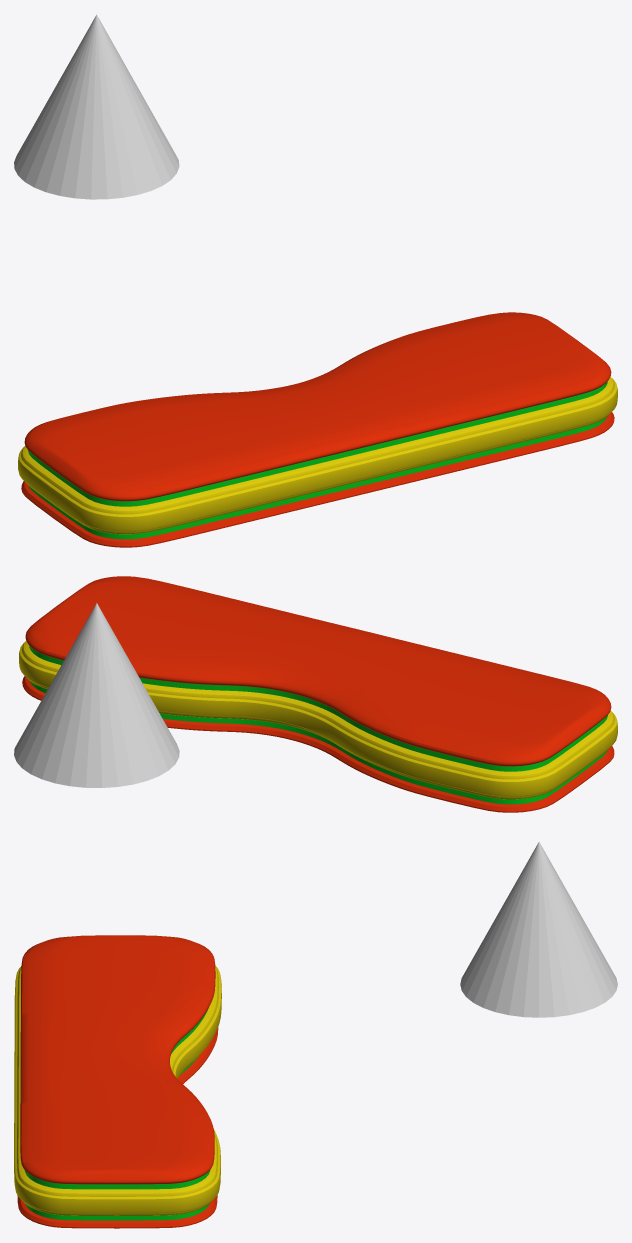
The model's file is BaseMaquines.fbx.
3 views of the same model, one above another, from view 1: azimuth 30°, elevation 25°; view 2: azimuth 150°, elevation 25°; view 3: azimuth 270°, elevation 25° (orthographic). The views are drawn at different scales.
Visible parts, largest first — view 1: Cube.010, Cone.001; view 2: Cube.010, Cone.001; view 3: Cube.010, Cone.001.
Part boxes in pixels (box(x1,y1,x2,y2)): Cube.010: box(18, 312, 617, 547); Cone.001: box(14, 14, 179, 199); Cube.010: box(19, 576, 617, 812); Cone.001: box(14, 603, 179, 787); Cube.010: box(14, 935, 221, 1228); Cone.001: box(460, 842, 617, 1017).
Size of the model in its own units: 746 by 370 by 766.
